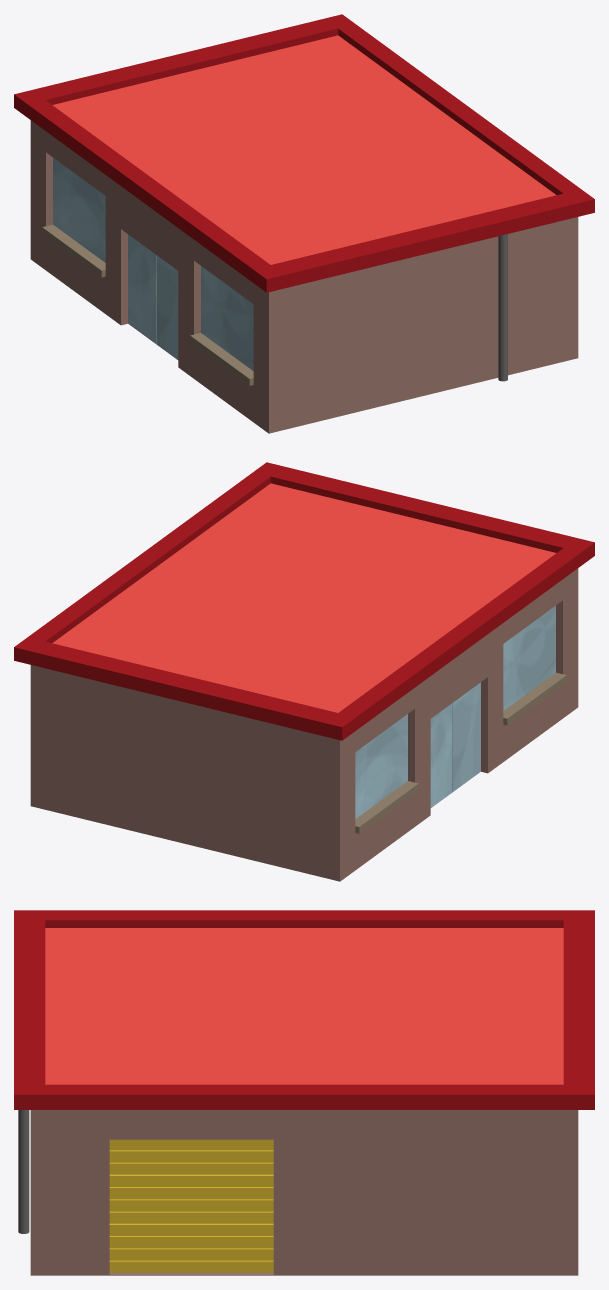
Rendered from TPCS_Store_001_V1.fbx.
3 views of the same model, one above another, from view 1: azimuth 30°, elevation 25°; view 2: azimuth 150°, elevation 25°; view 3: azimuth 270°, elevation 25° (orthographic). The views are drawn at different scales.
Visible parts, largest first — view 1: strore_1.011; view 2: strore_1.011; view 3: strore_1.011.
Part boxes in pixels (x1,y1,x2,y2): strore_1.011: (14, 14, 594, 433); strore_1.011: (14, 462, 594, 881); strore_1.011: (14, 910, 594, 1275).
Bounding box in the file's own units: 636 × 300 × 849.
